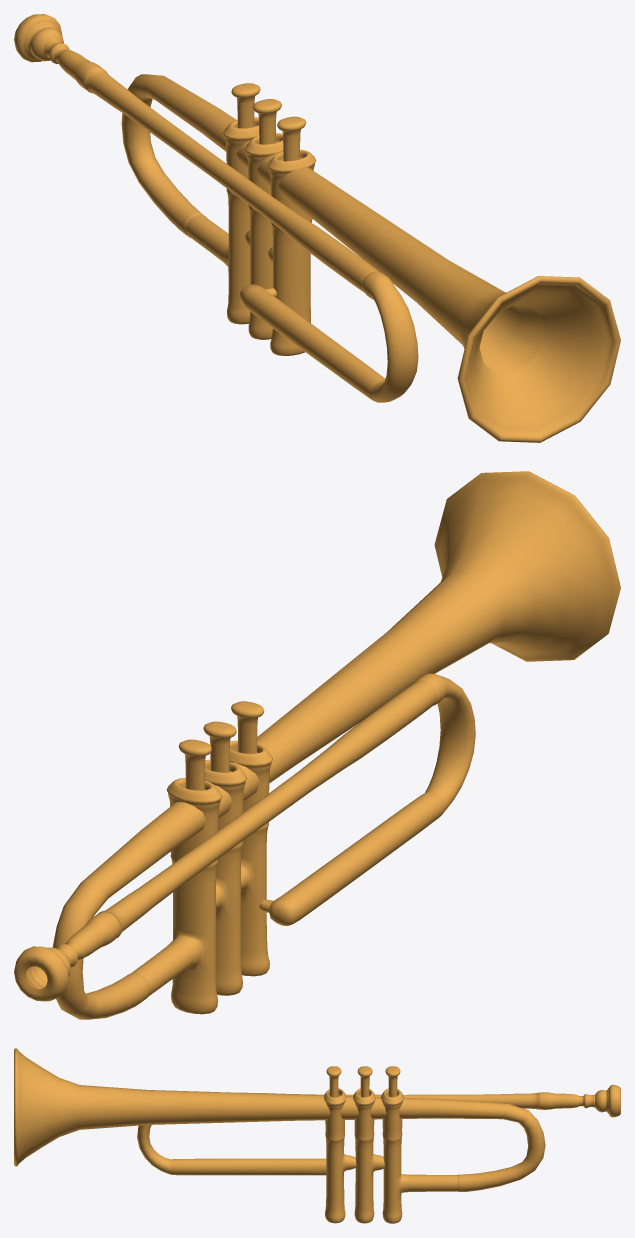
File: Trompets.fbx
The picture shows the model from 3 angles, top to bottom: view 1: azimuth 30°, elevation 25°; view 2: azimuth 150°, elevation 25°; view 3: azimuth 270°, elevation 25°; orthographic projection. The views are drawn at different scales.
Visible parts, largest first — view 1: Cube.059, Cube.065, Cube.071, Cube.072; view 2: Cube.059, Cube.072, Cube.065, Cube.071; view 3: Cube.059, Cube.072, Cube.065, Cube.071.
Boxes of the visible parts, x1,y1,x2,y2 form: Cube.059: (14, 14, 620, 442); Cube.065: (231, 83, 260, 128); Cube.071: (253, 99, 281, 144); Cube.072: (277, 116, 306, 161); Cube.059: (14, 471, 620, 1019); Cube.072: (231, 701, 264, 753); Cube.065: (178, 739, 211, 790); Cube.071: (203, 721, 236, 772); Cube.059: (14, 1048, 620, 1223); Cube.072: (326, 1066, 341, 1097); Cube.065: (385, 1066, 400, 1097); Cube.071: (357, 1066, 372, 1097).
Size of the model in its own units: 28.87 by 43.47 by 144.
